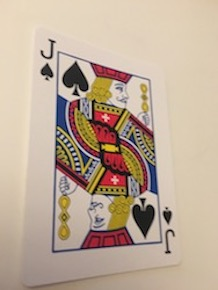JackOfSpades: (14, 18, 186, 290)
